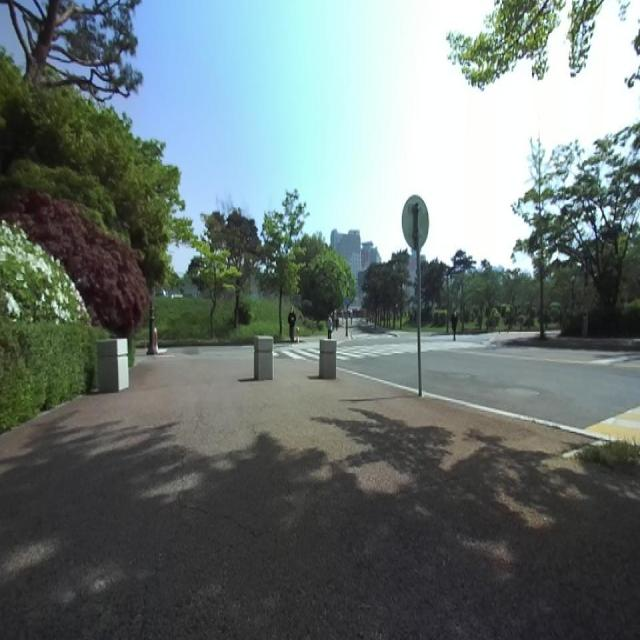sidewalk: (0, 347, 640, 639)
